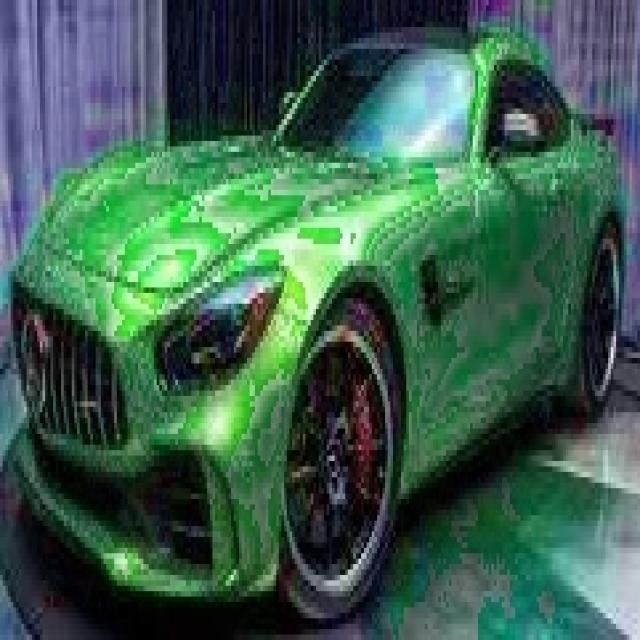green: (11, 27, 624, 618)
